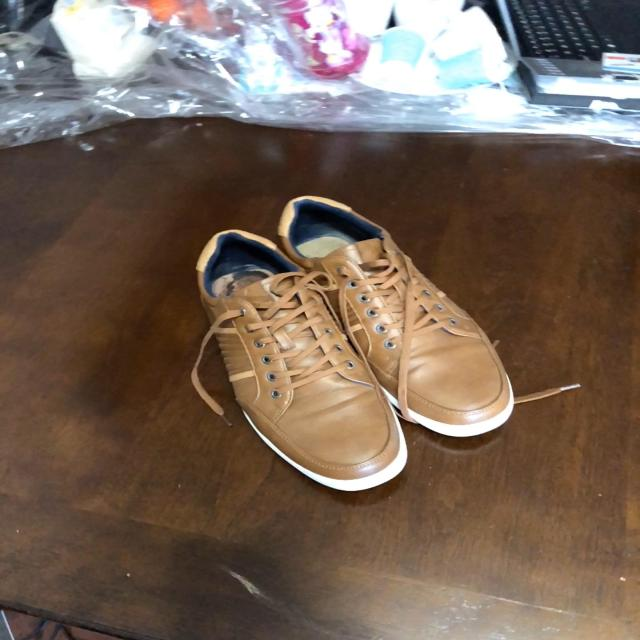shoe: (270, 199, 516, 443), (200, 227, 414, 488)
